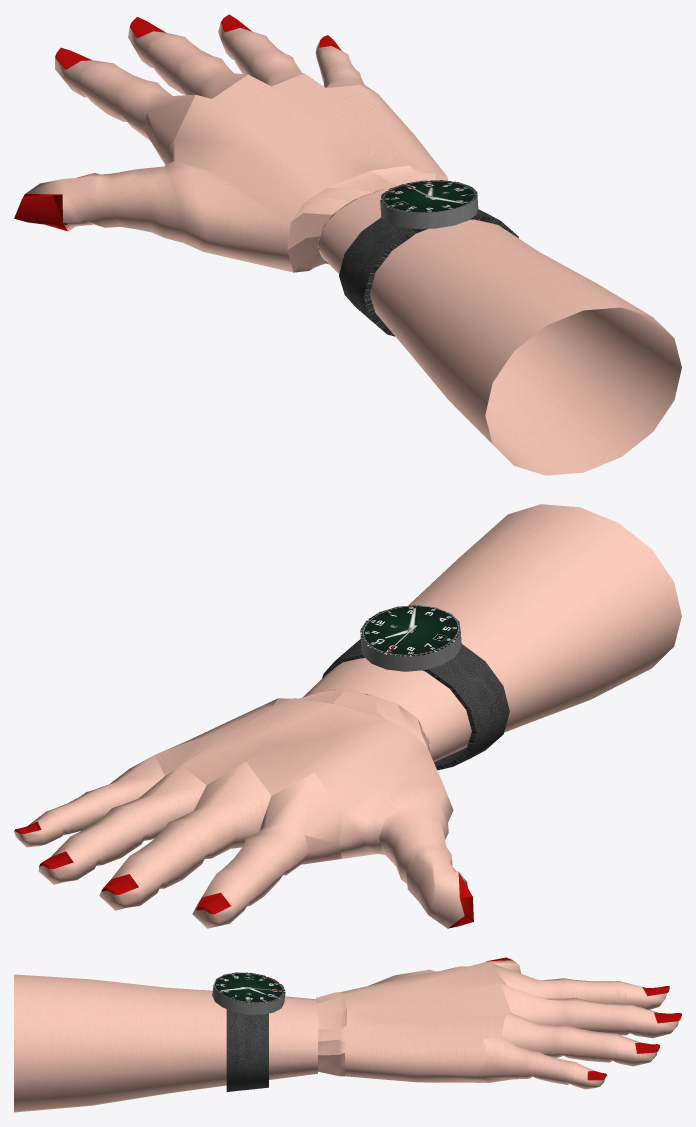
File: Arm.fbx
The picture shows the model from 3 angles, top to bottom: view 1: azimuth 30°, elevation 25°; view 2: azimuth 150°, elevation 25°; view 3: azimuth 270°, elevation 25°; orthographic projection. The views are drawn at different scales.
Parts seen in each view (by area): view 1: a_Arm_Complete, a_Watch_Face, a_Watch_Band; view 2: a_Arm_Complete, a_Watch_Face, a_Watch_Band; view 3: a_Arm_Complete, a_Watch_Band, a_Watch_Face.
Boxes of the visible parts, x1=… form: a_Arm_Complete: x1=14, y1=14, x2=681, y2=475; a_Watch_Face: x1=380, y1=180, x2=478, y2=228; a_Watch_Band: x1=339, y1=209, x2=518, y2=336; a_Arm_Complete: x1=14, y1=504, x2=681, y2=928; a_Watch_Face: x1=360, y1=605, x2=461, y2=671; a_Watch_Band: x1=322, y1=639, x2=509, y2=770; a_Arm_Complete: x1=14, y1=957, x2=681, y2=1112; a_Watch_Band: x1=226, y1=1009, x2=268, y2=1091; a_Watch_Face: x1=212, y1=972, x2=285, y2=1014.
Size of the model in its own units: 3.67 by 1.5 by 7.5.
Materials: 5 (4 with a texture image).
